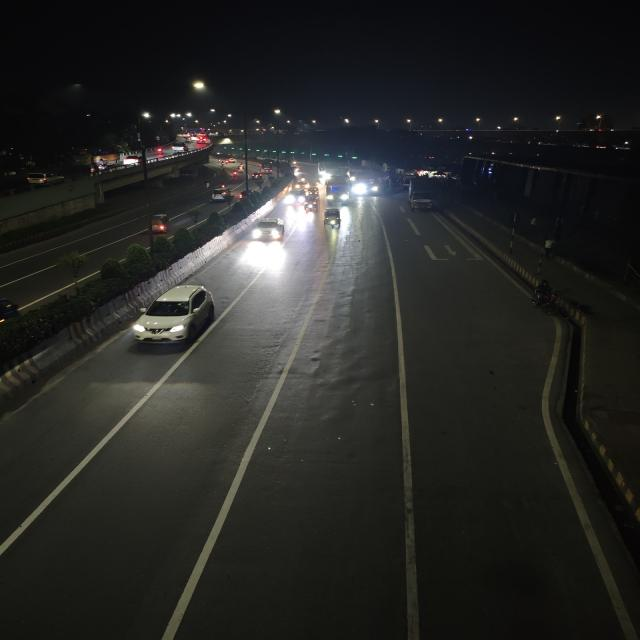bus: (325, 174, 350, 207), (358, 170, 381, 198)
car: (127, 281, 225, 355), (249, 216, 288, 245), (25, 171, 64, 187), (174, 165, 198, 180), (284, 190, 306, 206), (209, 186, 231, 202), (123, 155, 142, 167), (170, 143, 187, 152)
cng: (146, 211, 173, 235), (322, 206, 344, 232), (303, 194, 319, 214)
motorcycle: (530, 279, 565, 317)
truck: (405, 176, 442, 213)
